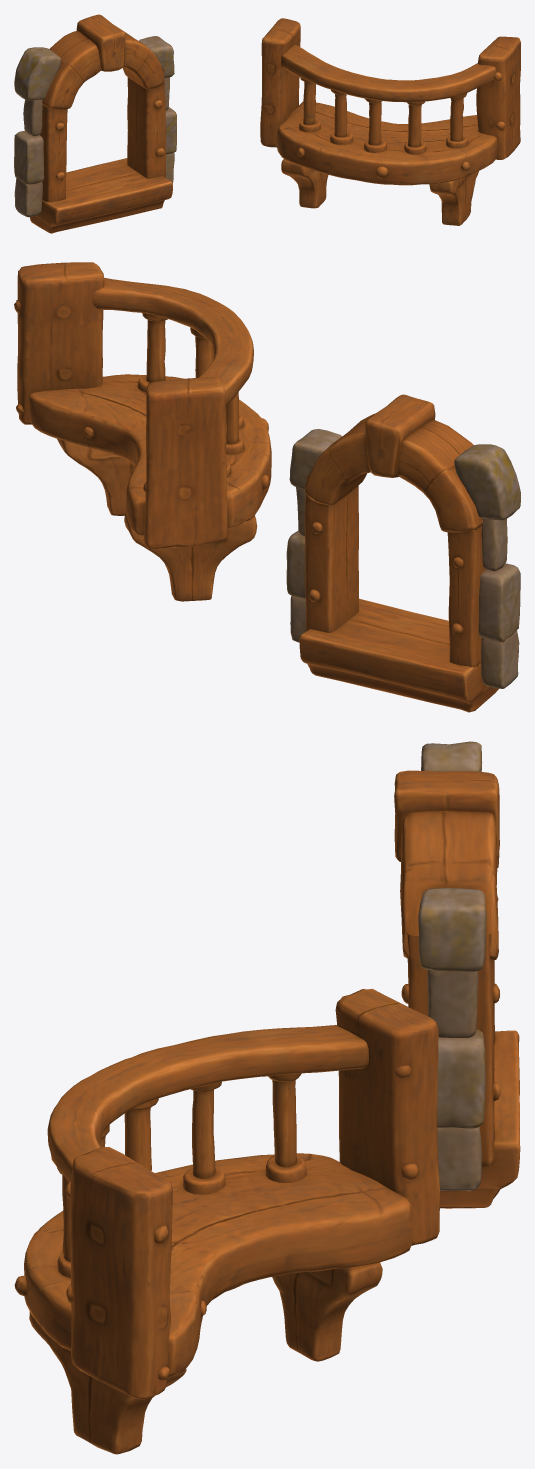
The model's file is sumicio_ventana_balcon.glb.
3 renders of one model, top to bottom at view 1: azimuth 30°, elevation 25°; view 2: azimuth 150°, elevation 25°; view 3: azimuth 270°, elevation 25°, orthographic. The views are drawn at different scales.
Parts seen in each view (by area): view 1: Balcon, Ventana; view 2: Balcon, Ventana; view 3: Balcon, Ventana.
Part boxes in pixels (x1=…): Balcon: x1=260, y1=18, x2=520, y2=225; Ventana: x1=14, y1=14, x2=176, y2=233; Balcon: x1=14, y1=262, x2=271, y2=601; Ventana: x1=286, y1=394, x2=520, y2=712; Balcon: x1=14, y1=988, x2=439, y2=1454; Ventana: x1=394, y1=741, x2=520, y2=1208.
Size of the model in its own units: 1 by 0.4529 by 0.5213.
1 material, 1 textured.
